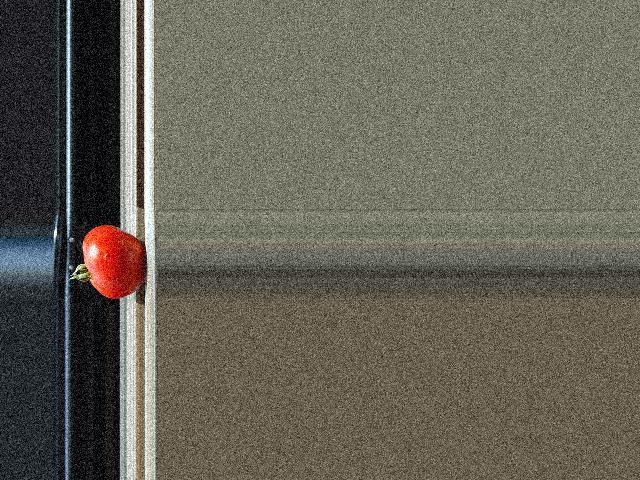tomato: (69, 225, 144, 298)
